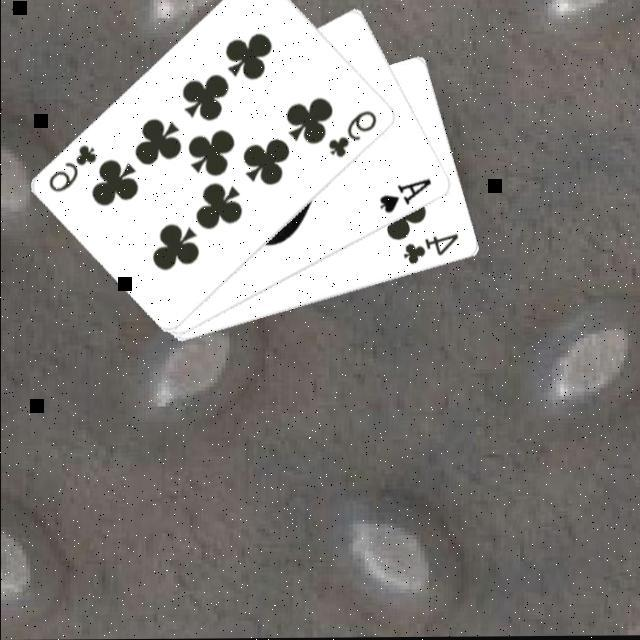4C: (399, 230, 461, 266)
9C: (324, 106, 379, 160), (44, 140, 99, 194)
AS: (375, 174, 433, 216)
